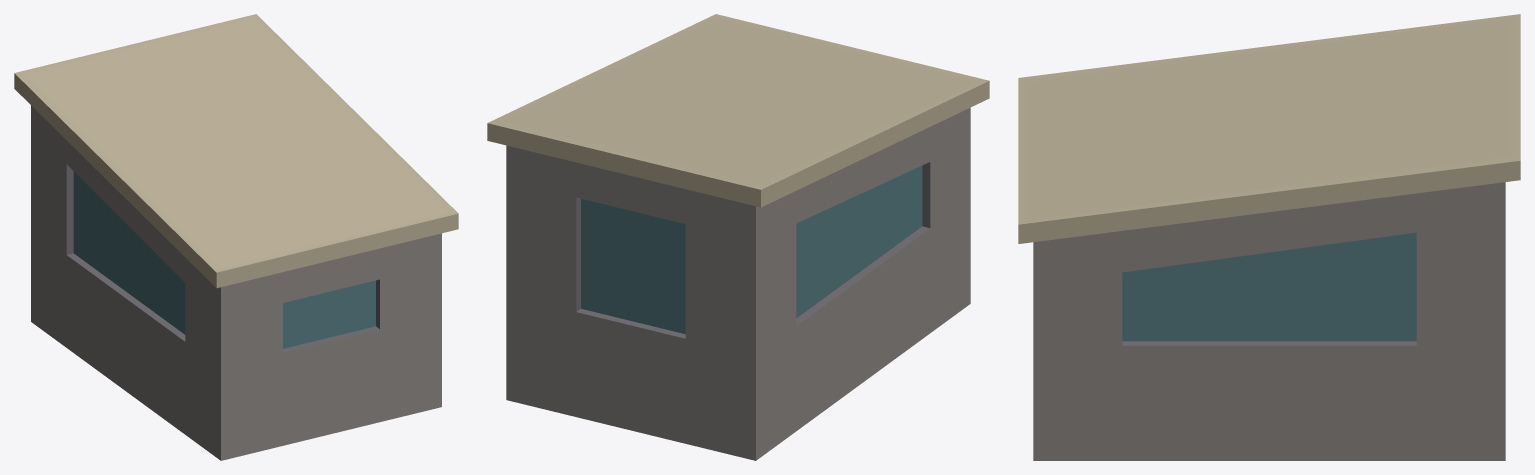
Rendered from small_house_1.fbx.
3 views of the same model, side by side, from view 1: azimuth 30°, elevation 25°; view 2: azimuth 150°, elevation 25°; view 3: azimuth 270°, elevation 25° (orthographic). The views are drawn at different scales.
Parts seen in each view (by area): view 1: small_house_1; view 2: small_house_1; view 3: small_house_1.
Part boxes in pixels (x1=…): small_house_1: x1=14, y1=14, x2=458, y2=460; small_house_1: x1=487, y1=14, x2=989, y2=460; small_house_1: x1=1018, y1=14, x2=1520, y2=460.
Size of the model in its own units: 58.53 by 57.03 by 84.71.
